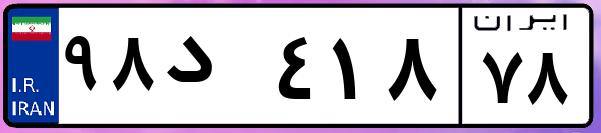1: (330, 28, 385, 110)
4: (270, 28, 330, 110)
7: (475, 38, 525, 113)
8: (385, 28, 445, 110), (525, 38, 570, 115), (110, 28, 158, 98)
9: (57, 26, 110, 100)
د: (158, 20, 270, 120)
